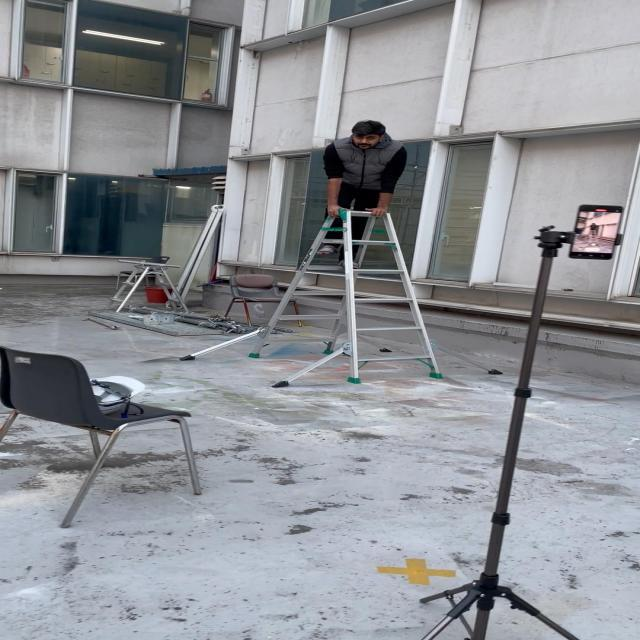boots: (172, 206, 512, 390)
vest: (308, 114, 412, 254)
